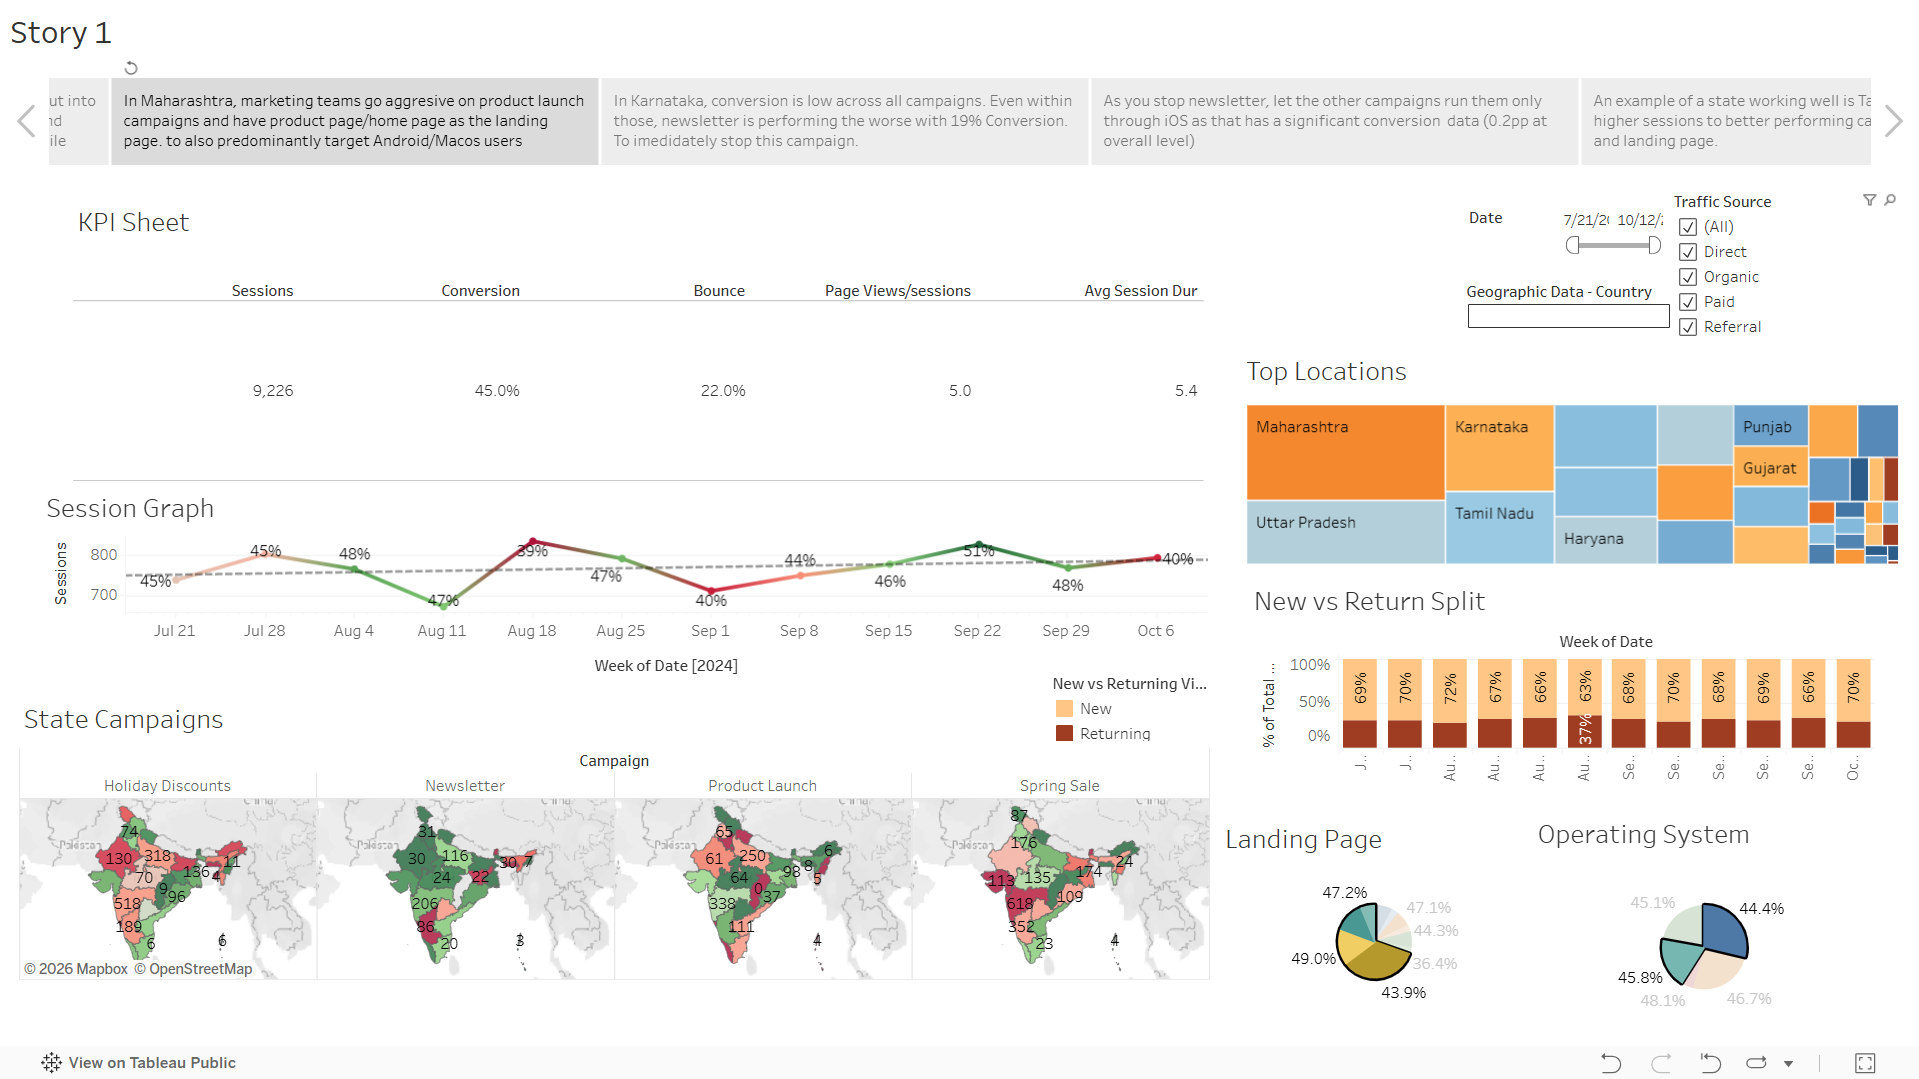

The dashboard page shown, as its layout file describes it:
{"tool":"tableau","page":{"name":"Dashboard 1","canvas":[1000,1000],"units":"permille","ordinal":0},"visuals":[{"type":"filter","title":"State Campaigns","param":"[federated.1yyavbm15dceqr19g5vwh11cqgi6].[none:Traffic Source:nk]","box":[875.7,12.5,118.9,174.8]},{"type":"worksheet","title":"KPI Sheet","mark":"Automatic","box":[32.6,20,595.6,333.3]},{"type":"filter","title":"Session Graph","param":"[federated.1yyavbm15dceqr19g5vwh11cqgi6].[none:Date:qk]","box":[767.6,32.5,103.8,54.9]},{"type":"filter","title":"State Campaigns","param":"[federated.1yyavbm15dceqr19g5vwh11cqgi6].[none:Geographic Data - Country:nk]","box":[766.5,117.4,108,67.4]},{"type":"worksheet","title":"Top Locations","mark":"Automatic","box":[648.2,193.5,347.6,260.9]},{"type":"worksheet","title":"Session Graph","mark":"Automatic","rows":["Sessions"],"cols":["Date"],"box":[16.3,354.6,613.8,232.2]},{"type":"worksheet","title":"New vs Return Split","mark":"Bar","cols":["Date"],"box":[651.8,461.9,330.1,248.4]},{"type":"legend","title":"New vs Return Split","param":"[federated.1yyavbm15dceqr19g5vwh11cqgi6].[none:New vs Returning Visitors:nk]","box":[548.6,575.5,84.5,79.9]},{"type":"worksheet","title":"State Campaigns","mark":"Multipolygon","cols":["Campaign"],"box":[4.8,600.5,627.6,333.3]},{"type":"worksheet","title":"Operating System","mark":"Pie","box":[801.5,735.3,180.5,258.4]},{"type":"worksheet","title":"Landing Page","mark":"Pie","box":[636.7,740.3,163.6,234.7]}]}

Visuals, with their boxes on the dashboard's canvas, which has no fixed pixel size, in thousandths of its width and height (x1, y1, x2, y2). These are canvas units, not pixel positions in the 1919x1079 screenshot, which may show the page scaled, cropped or inside an application window:
"State Campaigns" filter: (876, 12, 995, 187)
"KPI Sheet" worksheet: (33, 20, 628, 353)
"Session Graph" filter: (768, 32, 871, 87)
"State Campaigns" filter: (766, 117, 874, 185)
"Top Locations" worksheet: (648, 194, 996, 454)
"Session Graph" worksheet: (16, 355, 630, 587)
"New vs Return Split" worksheet (Bar marks): (652, 462, 982, 710)
"New vs Return Split" legend: (549, 576, 633, 655)
"State Campaigns" worksheet (Multipolygon marks): (5, 600, 632, 934)
"Operating System" worksheet (Pie marks): (802, 735, 982, 994)
"Landing Page" worksheet (Pie marks): (637, 740, 800, 975)
